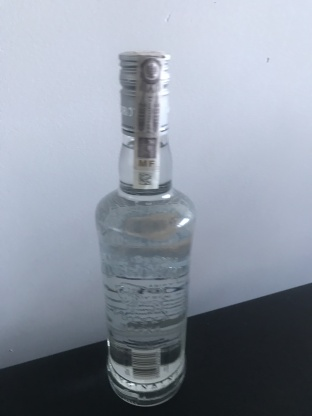nakretka: (115, 45, 173, 139)
